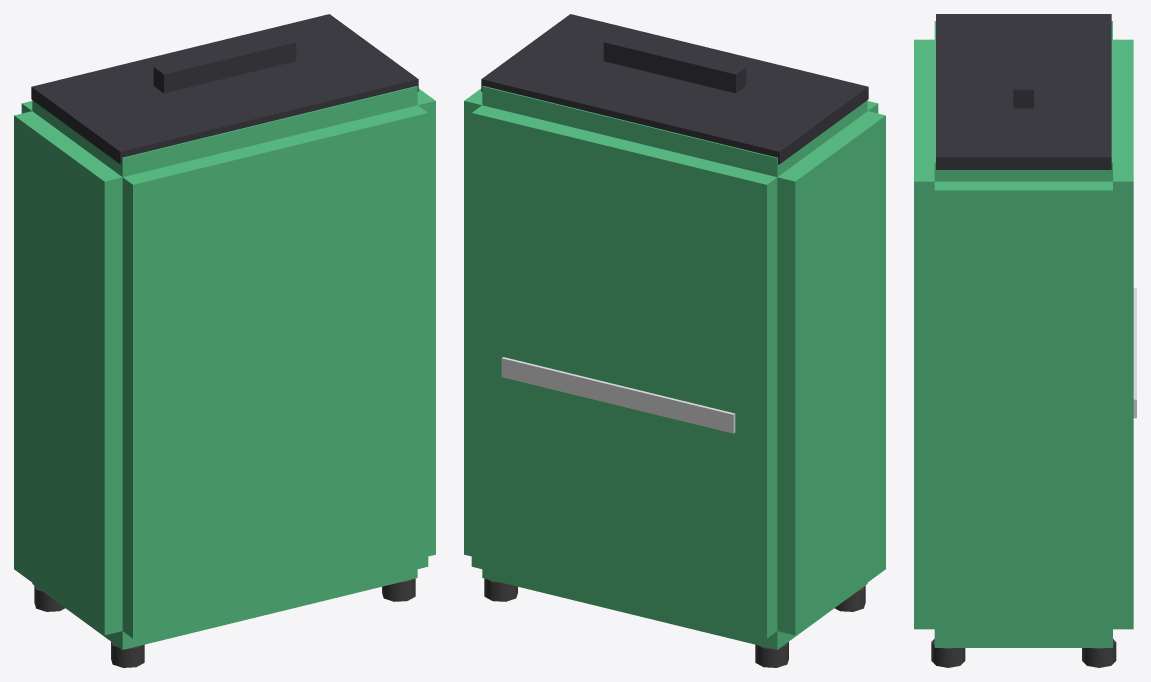
Rendered from suitcase_green.glb.
3 views of the same model, side by side, from view 1: azimuth 30°, elevation 25°; view 2: azimuth 150°, elevation 25°; view 3: azimuth 270°, elevation 25° (orthographic).
Visible parts, largest first — view 1: suitcase_green; view 2: suitcase_green; view 3: suitcase_green.
Boxes of the visible parts, x1,y1,x2,y2 form: suitcase_green: (14,14,435,667); suitcase_green: (464,14,885,667); suitcase_green: (914,14,1136,667).
Size of the model in its own units: 0.55 by 0.865 by 0.325.
